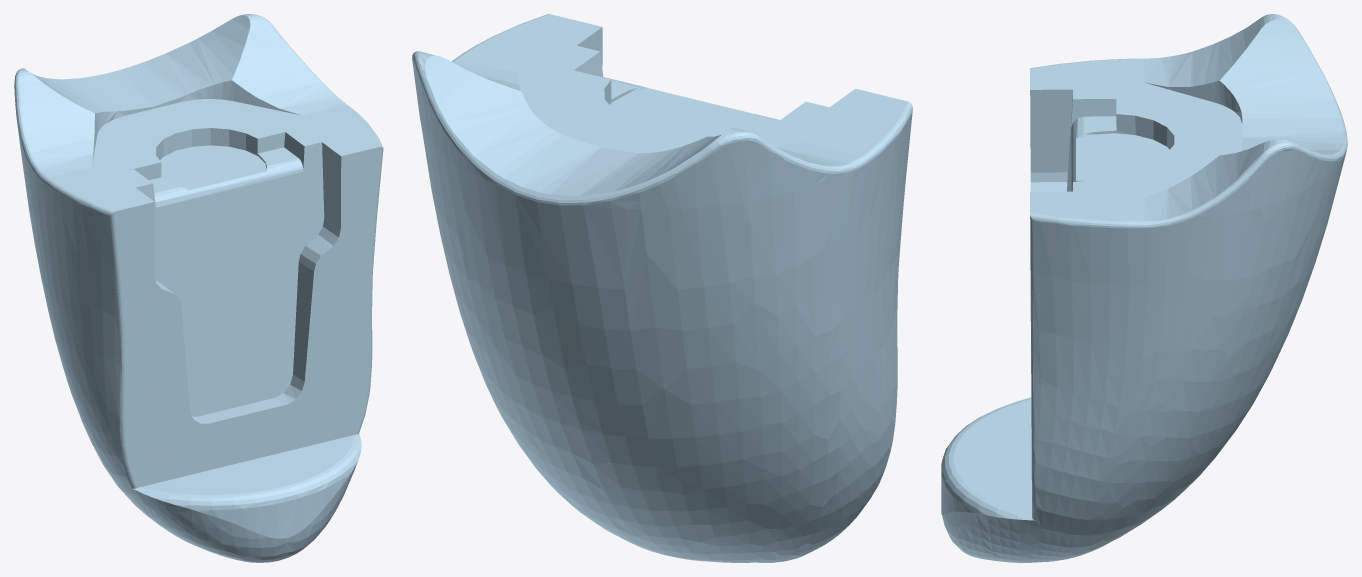
File: r_middle_finger_tip_sensor_frame_render.glb
3 views of the same model, side by side, from view 1: azimuth 30°, elevation 25°; view 2: azimuth 150°, elevation 25°; view 3: azimuth 270°, elevation 25° (orthographic). The views are drawn at different scales.
Parts seen in each view (by area): view 1: world; view 2: world; view 3: world.
Boxes of the visible parts, x1,y1,x2,y2 form: world: (14, 14, 383, 562); world: (412, 14, 912, 562); world: (941, 14, 1347, 562).
Bounding box in the file's own units: 0.0158 × 0.0207 × 0.0163.
